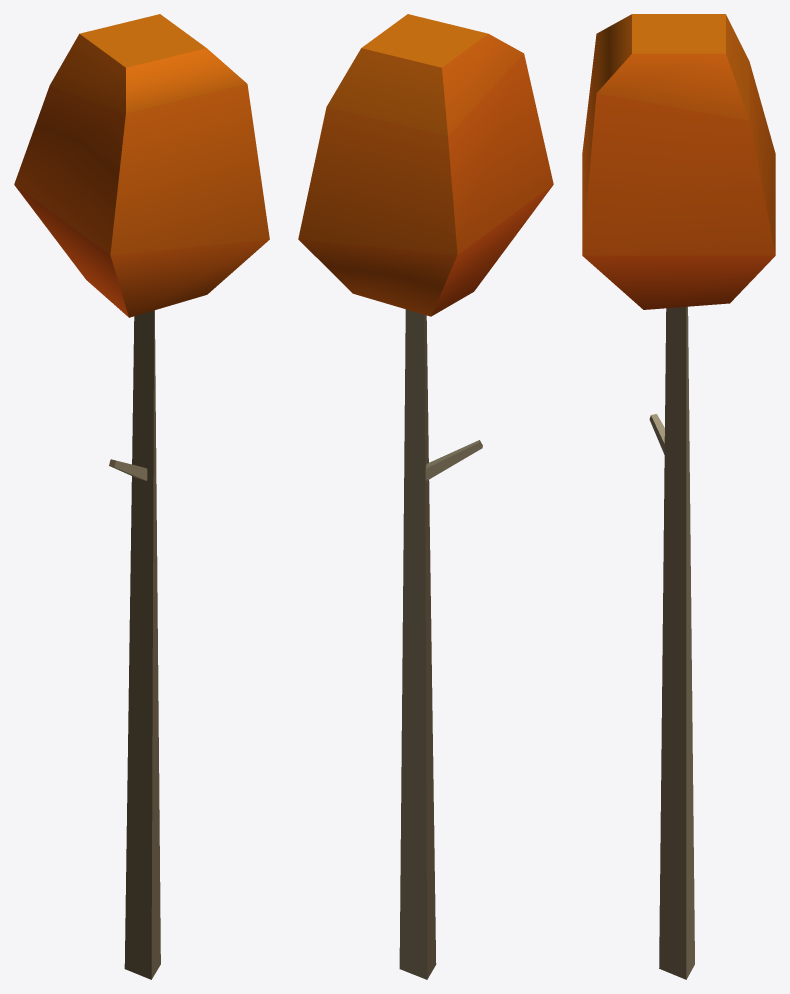
The model's file is SF_Env_Tree_Tall_Fall_01.fbx.
The picture shows the model from 3 angles, left to right: view 1: azimuth 30°, elevation 25°; view 2: azimuth 150°, elevation 25°; view 3: azimuth 270°, elevation 25°; orthographic projection.
Parts seen in each view (by area): view 1: SF_Env_Tree_Tall_Fall_01; view 2: SF_Env_Tree_Tall_Fall_01; view 3: SF_Env_Tree_Tall_Fall_01.
Part boxes in pixels (left/top/right/bottom): SF_Env_Tree_Tall_Fall_01: left=14, top=14, right=269, bottom=979; SF_Env_Tree_Tall_Fall_01: left=298, top=14, right=553, bottom=979; SF_Env_Tree_Tall_Fall_01: left=582, top=14, right=775, bottom=979.
Bounding box in the file's own units: 2.19 × 12.2 × 2.29.
